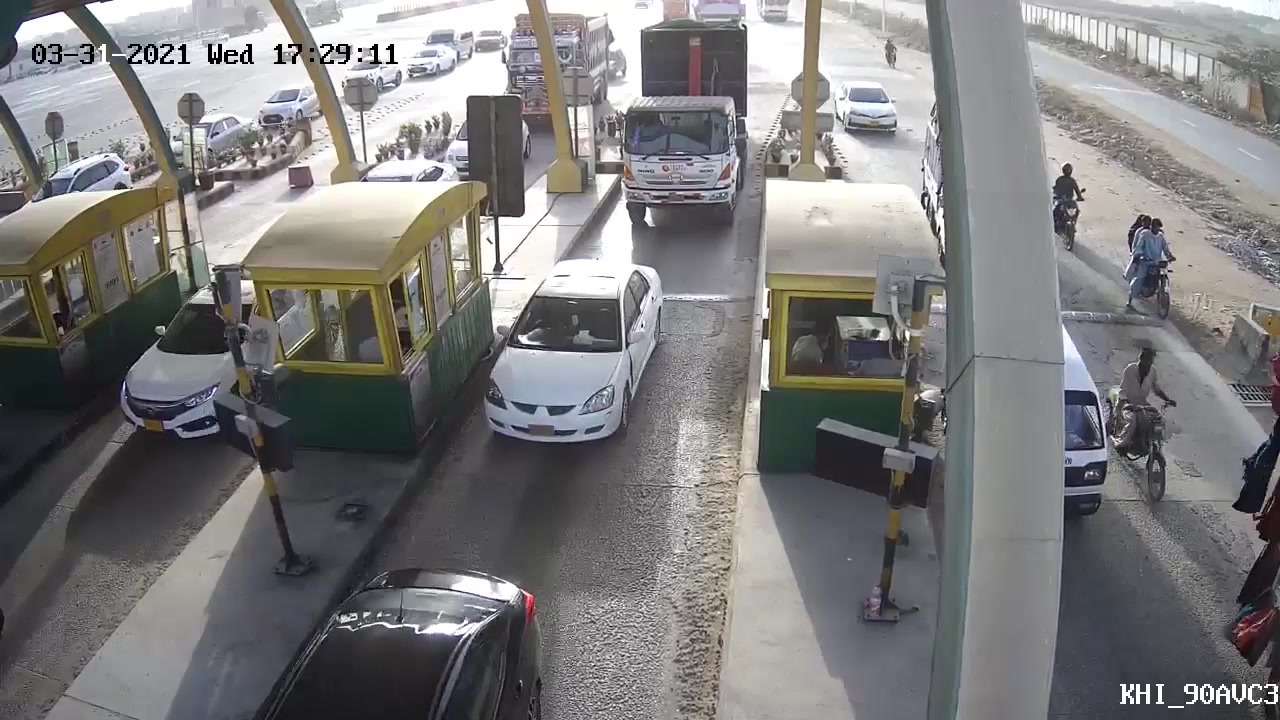F1: (470, 253, 668, 449)
